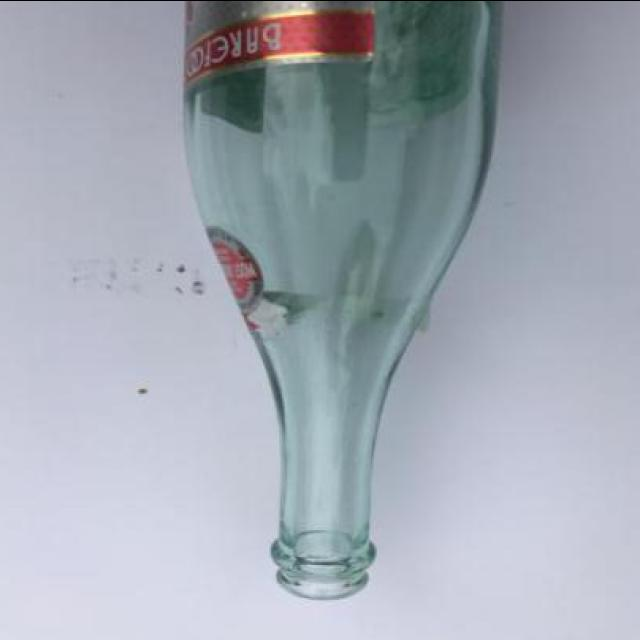kaca: (182, 0, 504, 599)
